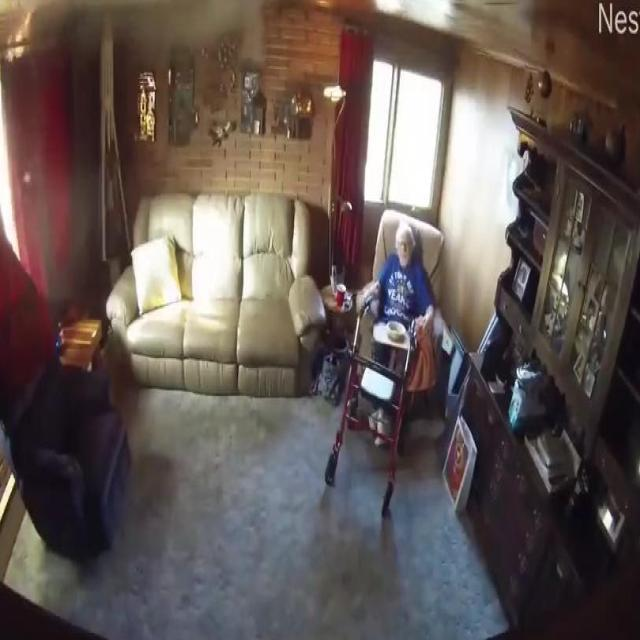fire: (55, 0, 269, 65)
smoke: (5, 11, 38, 62)
